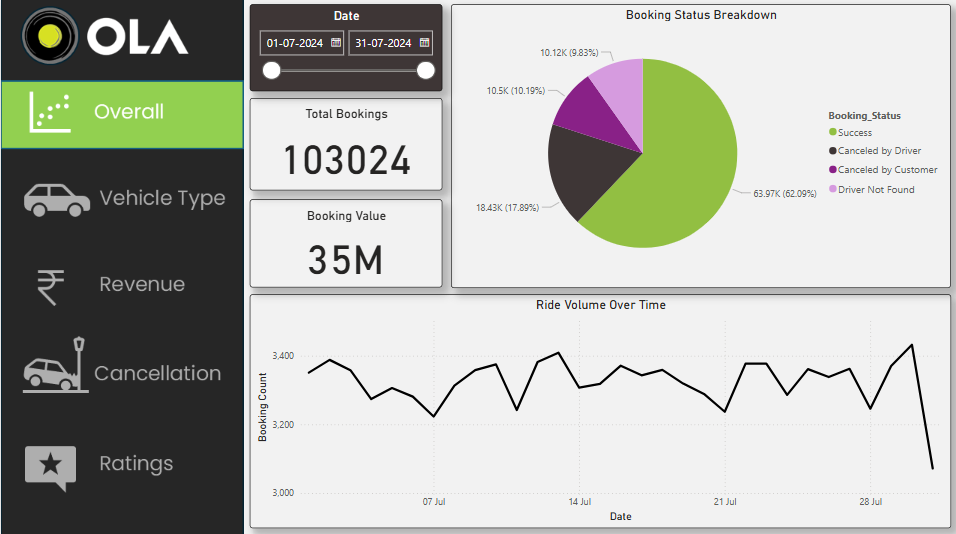

The dashboard page shown, as its layout file describes it:
{"tool":"powerbi","page":{"name":"Overall","canvas":[1280,720],"ordinal":0},"visuals":[{"type":"actionButton","box":[1.2,225,323.8,92.5],"z":0},{"type":"actionButton","box":[0,336.4,323.2,91.9],"z":1000},{"type":"actionButton","box":[0,446.5,323.2,91.9],"z":2000},{"type":"actionButton","box":[0,576.2,323.8,92.5],"z":3000},{"type":"lineChart","title":"Ride Volume Over Time","fields":{"Y":["CountNonNull(July.Booking_ID)"],"Category":["July.Date"]},"box":[331.1,394.6,935.1,312.2],"z":4000},{"type":"pieChart","title":"Booking Status Breakdown","fields":{"Category":["July.Booking_Status"],"Y":["CountNonNull(July.Booking_Status)"]},"box":[600,8.1,666.2,378.4],"z":5000},{"type":"slicer","title":"Date","fields":{"Values":["July.Date"]},"box":[331.1,8.1,256.8,116.2],"z":6000},{"type":"card","title":"Total Bookings","fields":{"Values":["CountNonNull(July.Booking_ID)"]},"box":[331.1,133.8,256.8,123],"z":7000},{"type":"card","title":"Booking Value","fields":{"Values":["Sum(July.Booking_Value)"]},"box":[331.1,268.9,256.8,117.6],"z":8000}]}

Visuals, with their boxes in screenshot pixels (x1, y1, x2, y2), scaled from the page's 1280x720 canvas onto the 956x534 screenshot:
actionButton: box(1, 167, 243, 235)
actionButton: box(0, 249, 241, 318)
actionButton: box(0, 331, 241, 399)
actionButton: box(0, 427, 242, 496)
"Ride Volume Over Time" lineChart: box(247, 293, 946, 524)
"Booking Status Breakdown" pieChart: box(448, 6, 946, 287)
"Date" slicer: box(247, 6, 439, 92)
"Total Bookings" card: box(247, 99, 439, 190)
"Booking Value" card: box(247, 199, 439, 287)
